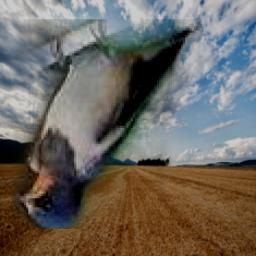Swallow: (12, 20, 203, 230)
